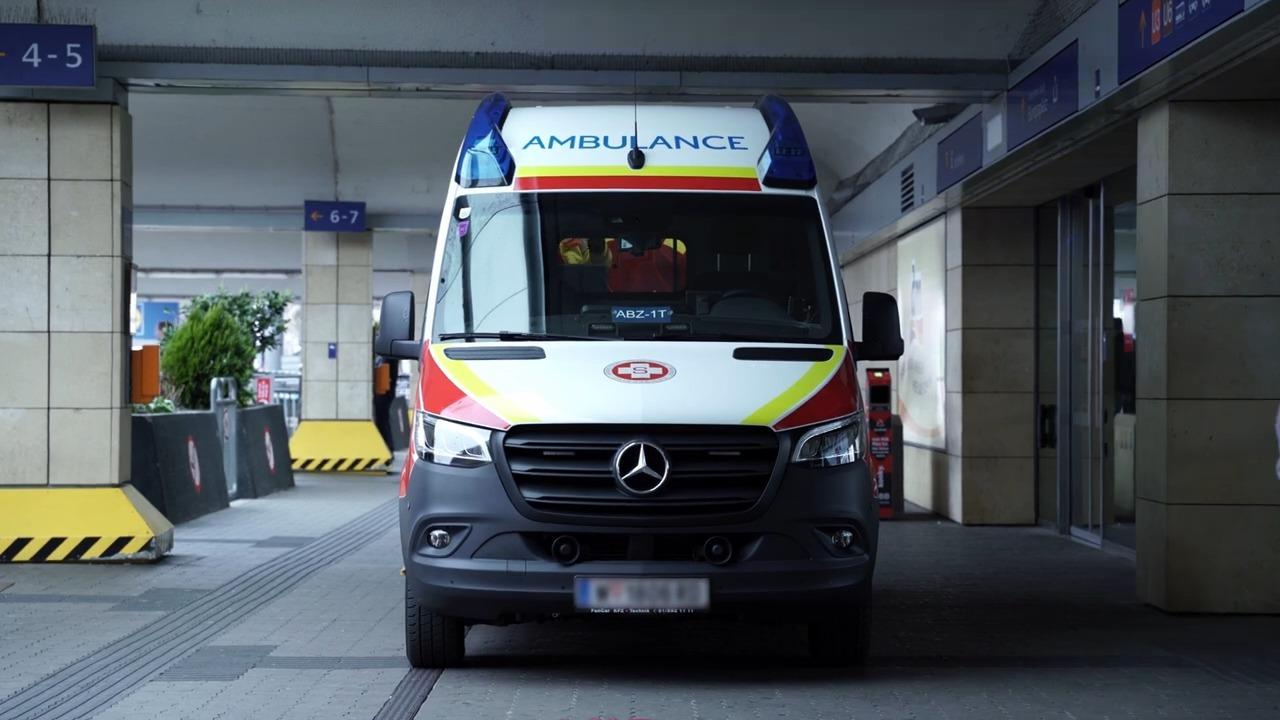car: (377, 89, 898, 671)
